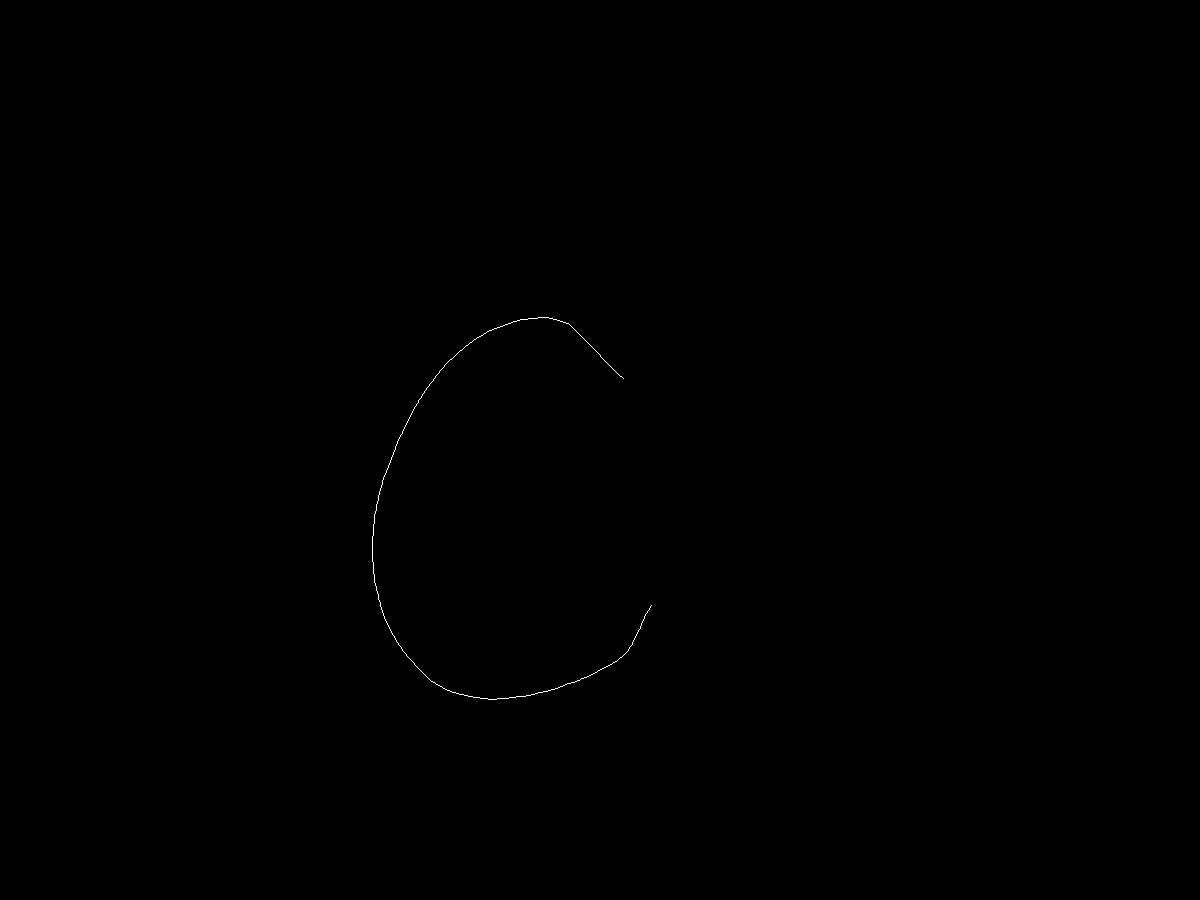dian1: (616, 368, 630, 383)
dian2: (643, 595, 665, 613)
